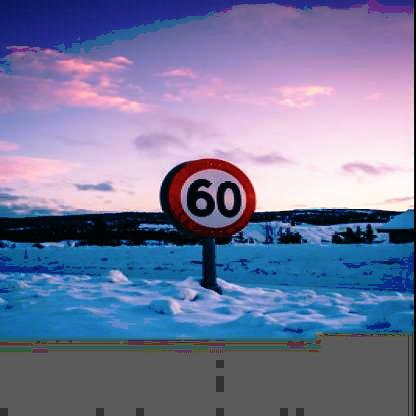Speed Limit -60-: (162, 158, 256, 238)
